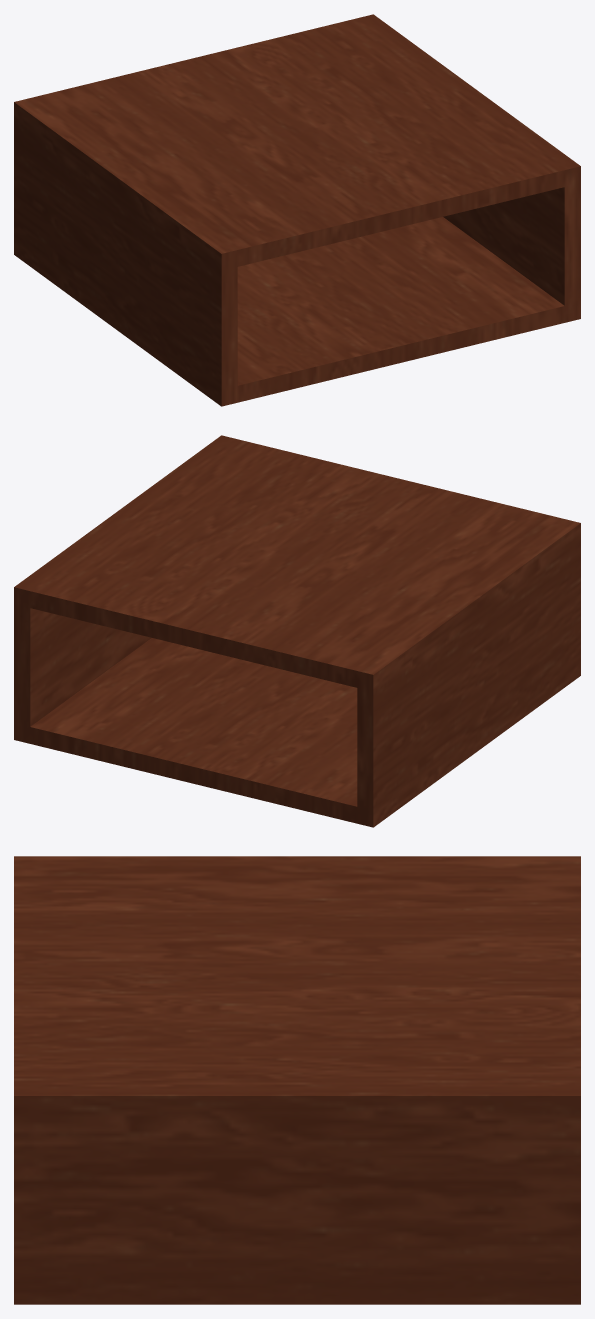
File: minitable.fbx
The picture shows the model from 3 angles, top to bottom: view 1: azimuth 30°, elevation 25°; view 2: azimuth 150°, elevation 25°; view 3: azimuth 270°, elevation 25°; orthographic projection. The views are drawn at different scales.
Parts seen in each view (by area): view 1: minitable; view 2: minitable; view 3: minitable.
Boxes of the visible parts, <box> form: minitable: <box>14,14,580,406</box>; minitable: <box>14,435,580,827</box>; minitable: <box>14,856,580,1304</box>.
Bounding box in the file's own units: 111 × 45.11 × 111.
1 material, 1 textured.
